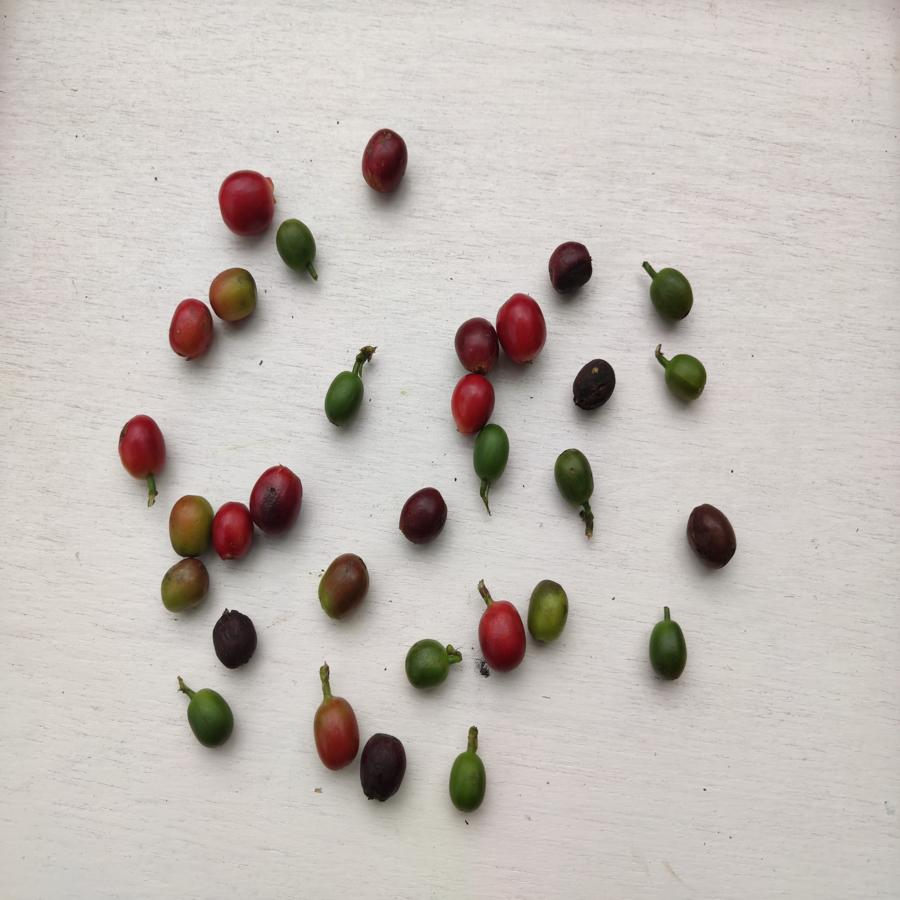Inmaduro: (183, 687, 239, 751), (549, 444, 601, 506), (646, 619, 694, 684), (526, 579, 568, 647), (649, 263, 695, 322), (321, 370, 367, 429), (446, 750, 488, 814), (403, 635, 451, 689), (275, 217, 318, 277), (662, 350, 709, 402), (474, 424, 510, 479)
Maduro: (215, 168, 277, 242), (496, 291, 548, 369), (114, 413, 170, 480), (475, 602, 527, 674), (166, 294, 215, 367), (312, 699, 358, 775), (210, 499, 254, 571), (445, 372, 494, 432)
Pinton: (314, 551, 372, 623), (206, 266, 264, 324), (164, 492, 213, 560), (158, 558, 211, 613)
Sobremaduro: (249, 461, 314, 536), (684, 499, 740, 573), (359, 729, 407, 807), (359, 127, 410, 197), (209, 606, 258, 675), (398, 485, 451, 543), (544, 238, 597, 295), (570, 356, 618, 415), (451, 317, 500, 374)
